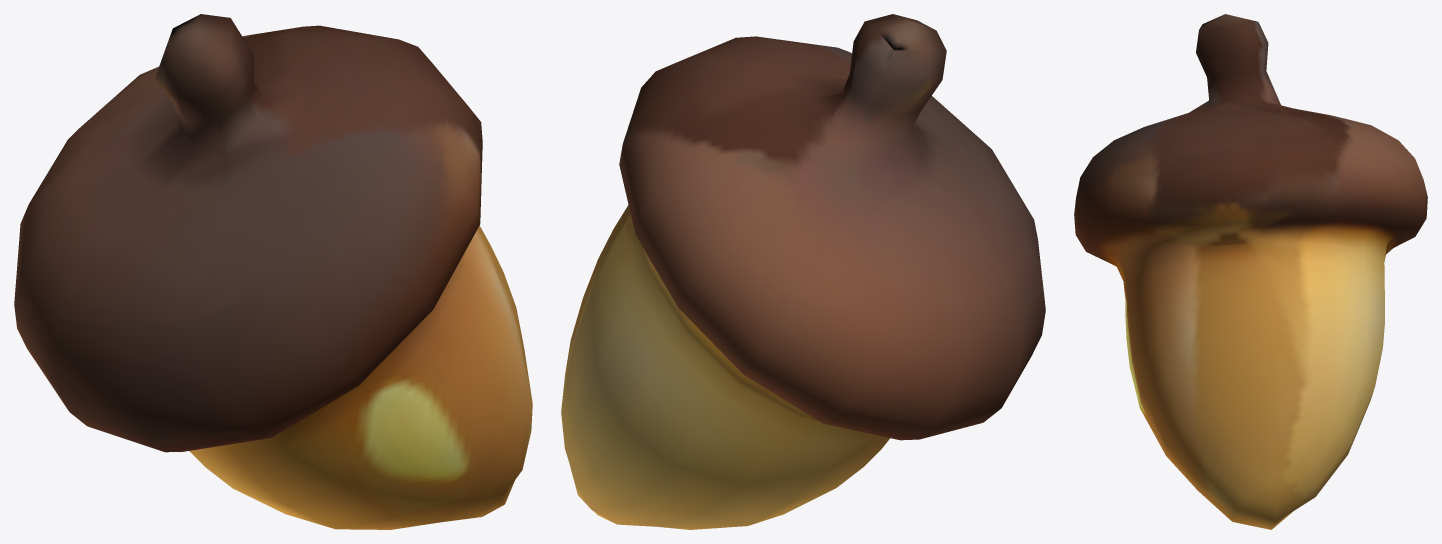
Rendered from Power_01_Acorn.fbx.
3 renders of one model, left to right at view 1: azimuth 30°, elevation 25°; view 2: azimuth 150°, elevation 25°; view 3: azimuth 270°, elevation 25°, orthographic. The views are drawn at different scales.
Visible parts, largest first — view 1: power_01_acorn; view 2: power_01_acorn; view 3: power_01_acorn.
Boxes of the visible parts, x1,y1,x2,y2 form: power_01_acorn: (14, 14, 532, 529); power_01_acorn: (561, 14, 1045, 529); power_01_acorn: (1074, 14, 1427, 529).
Bounding box in the file's own units: 0.4996 × 0.5878 × 0.4591.
